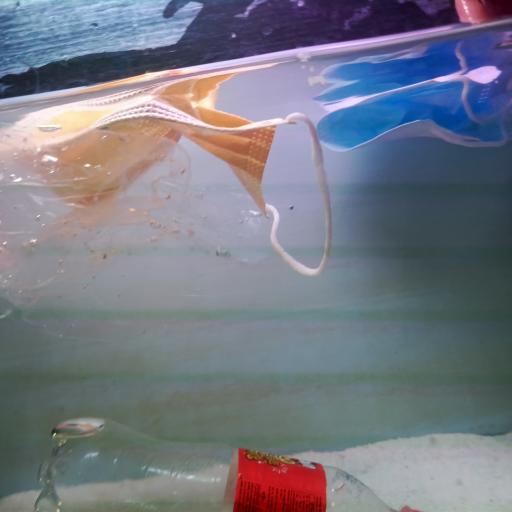mask: (19, 95, 351, 302), (325, 68, 512, 177)
plastic_bag: (4, 125, 264, 319)
plastic_bottle: (43, 411, 433, 512)
